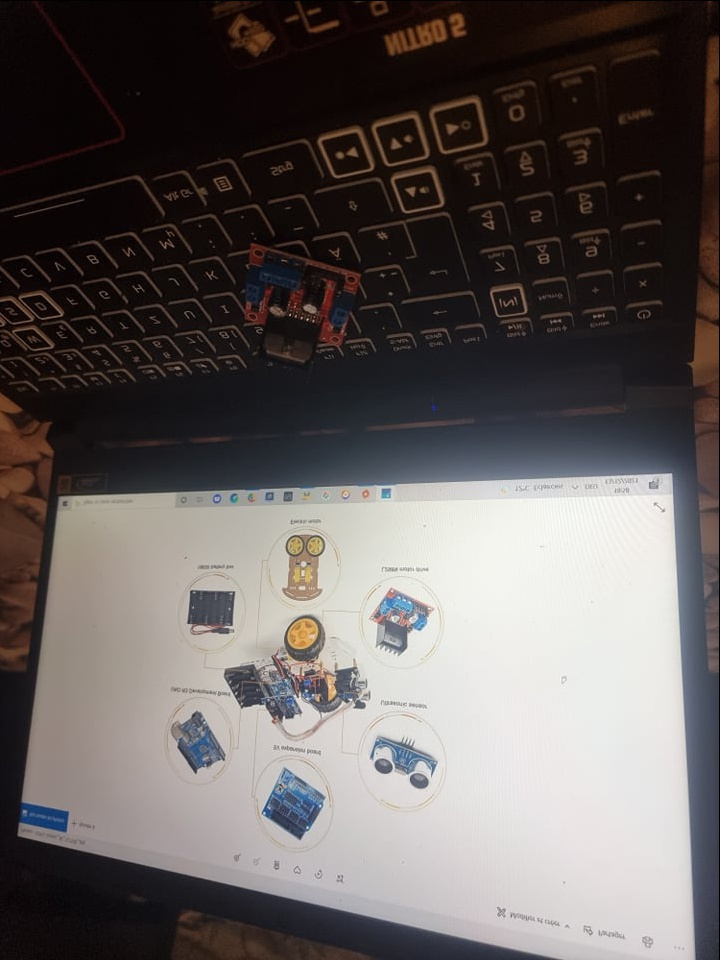5V EXPANSION: (258, 765, 329, 843)
BATTERY BOX: (189, 587, 238, 626)
MOTOR: (233, 238, 363, 364), (368, 588, 435, 657)
SENSOR: (371, 737, 439, 795), (356, 671, 378, 705)
UNO R3: (170, 704, 232, 778)
